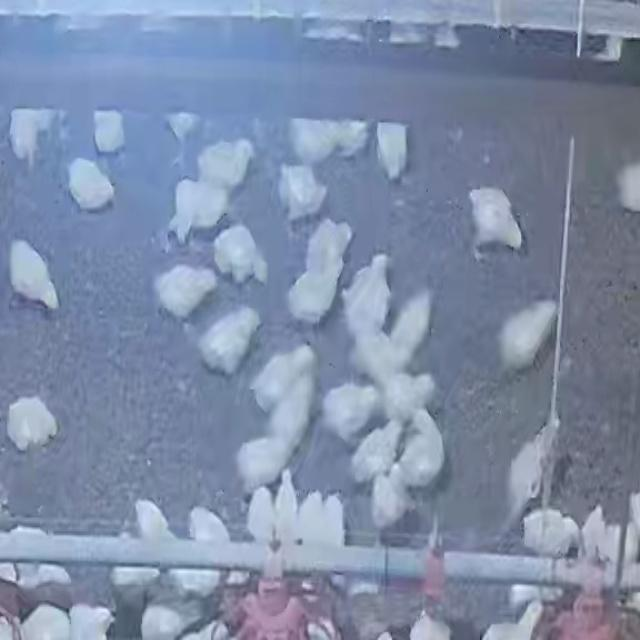chicken: (287, 219, 352, 324), (177, 504, 235, 600), (250, 342, 318, 414), (583, 498, 638, 586), (1, 524, 73, 589), (497, 301, 557, 377), (195, 306, 261, 374), (340, 252, 392, 338), (466, 188, 524, 260), (509, 423, 560, 504), (398, 406, 447, 489), (150, 262, 220, 319), (320, 380, 379, 446), (349, 415, 404, 483), (8, 238, 59, 311), (165, 178, 226, 235), (386, 290, 432, 362), (216, 226, 272, 284), (67, 155, 125, 210), (196, 137, 255, 190), (5, 394, 58, 453), (234, 434, 294, 486), (520, 508, 580, 559), (380, 370, 435, 425), (278, 164, 328, 223), (371, 469, 408, 530), (244, 483, 277, 545), (276, 468, 302, 545), (299, 485, 330, 548), (376, 122, 408, 180), (133, 498, 173, 543), (324, 495, 346, 543)
